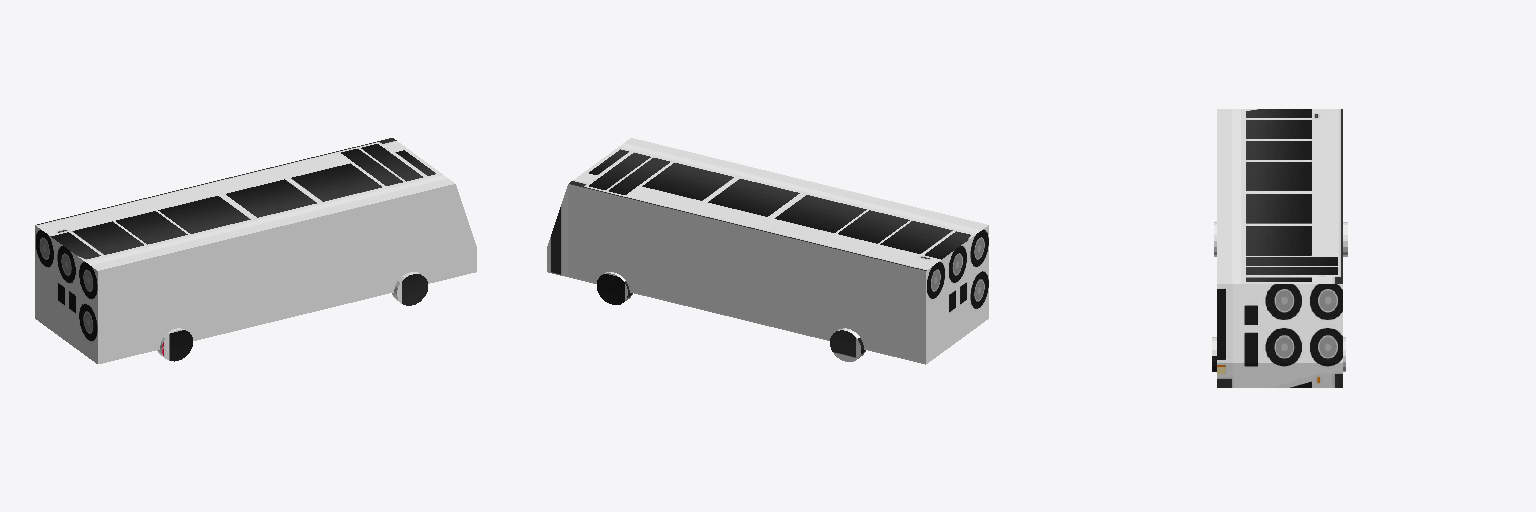
The picture shows the model from 3 angles: view 1: azimuth 30°, elevation 25°; view 2: azimuth 150°, elevation 25°; view 3: azimuth 270°, elevation 25°; orthographic projection.
Size of the model in its own units: 27.09 by 7.4 by 8.45.
Materials: 1 (1 with a texture image).